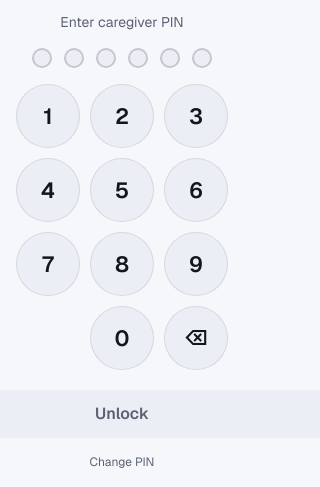
Test case: PinPad — Change PIN button › tapping Change PIN enters setup mode
Click the button "Change PIN": (122, 462) [90,454,154,470]
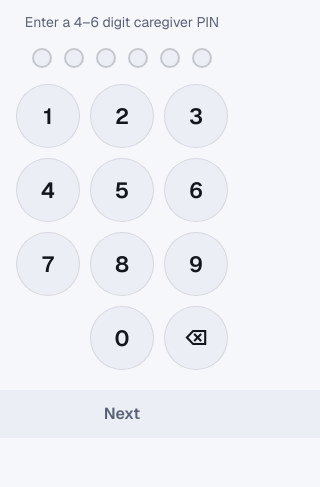
Expected: the text "Enter a 4–6 digit caregiver PIN" is shown, [25,12,219,32]
